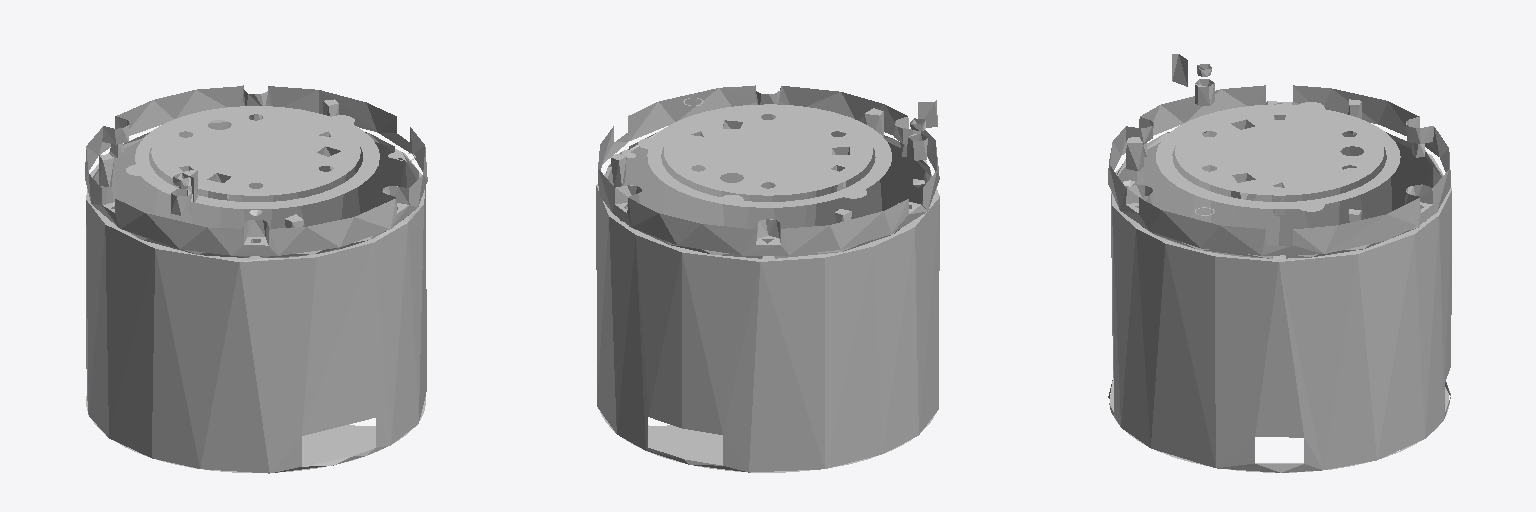
3 views of the same model, side by side, from view 1: azimuth 30°, elevation 25°; view 2: azimuth 150°, elevation 25°; view 3: azimuth 270°, elevation 25° (orthographic).
Visible parts, largest first — view 1: link6_0; view 2: link6_0; view 3: link6_0.
Boxes of the visible parts, box(x1,y1,x2,y2) form: link6_0: box(85, 85, 427, 473); link6_0: box(596, 85, 939, 472); link6_0: box(1108, 54, 1451, 472).
Bounding box in the file's own units: 57.41 × 53.52 × 57.51.